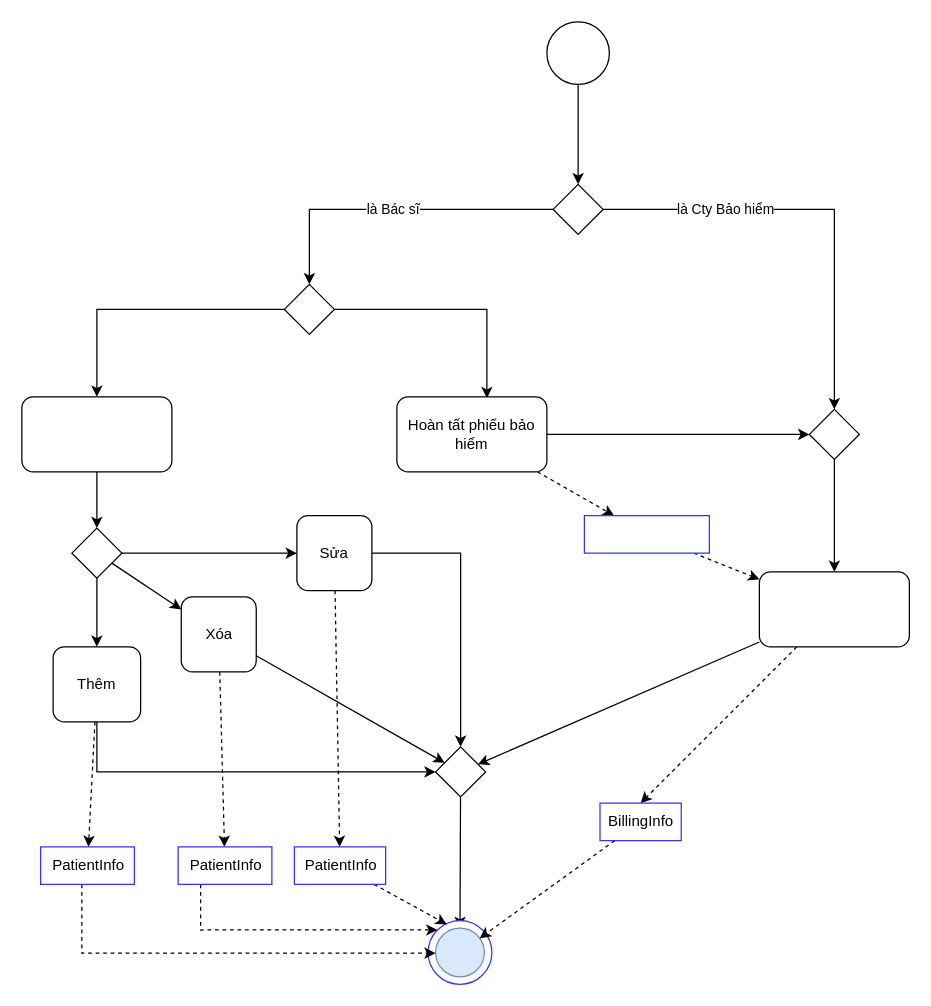
This 931x1006 diagram has some shape labels left out. The shapes that lost their labels are listed below. From the top down, each one's box as (x1, y1, x2, y2) in pixels, then its label:
(21, 396, 172, 472): Quản lý thông tin bệnh nhân
(583, 514, 709, 553): InsurranceInfo
(758, 571, 909, 647): Thanh toán
